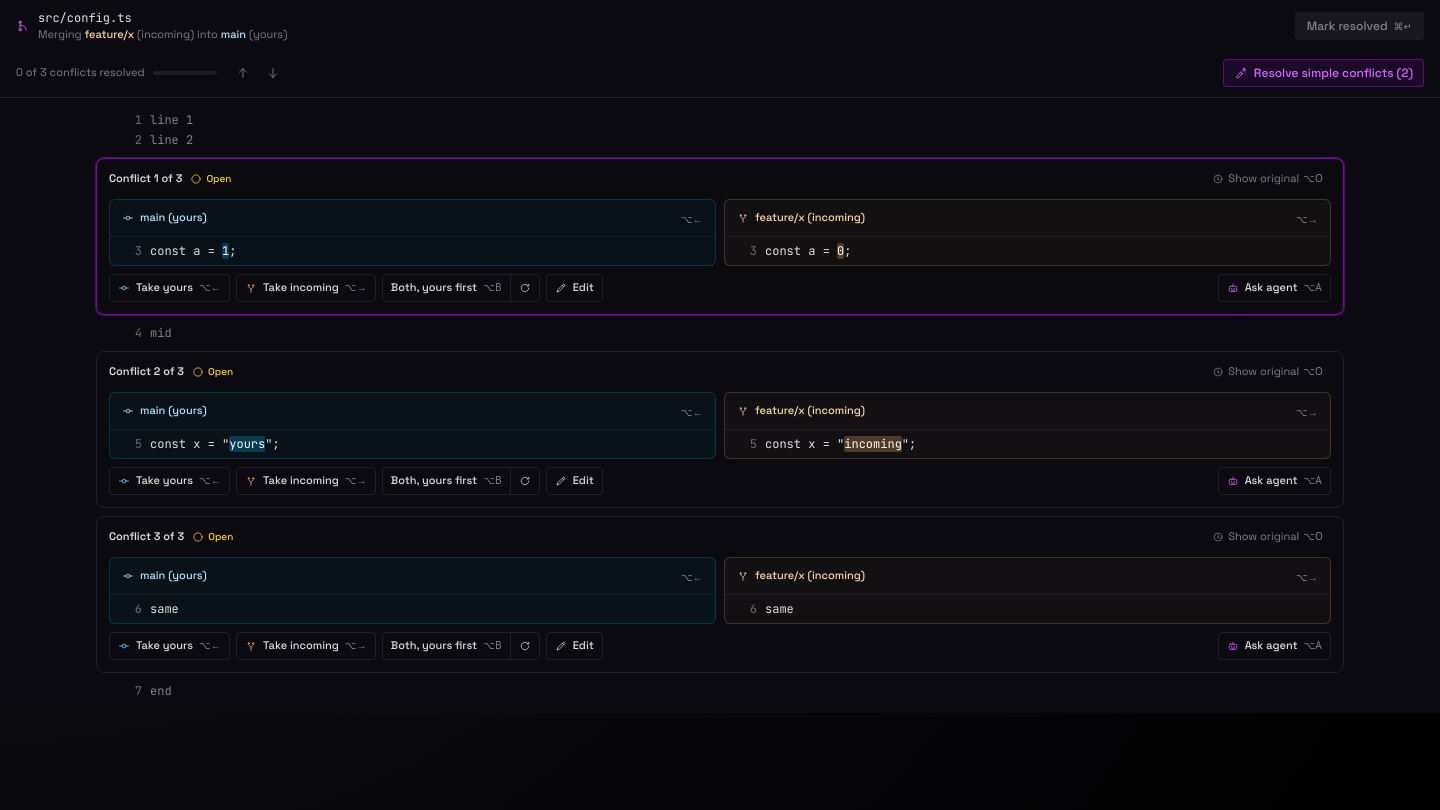
Test: MergeView › refuses an edited resolution that still has a marker line
Click the 2nd button "Edit".
click(574, 480)  # box [546,466,603,494]
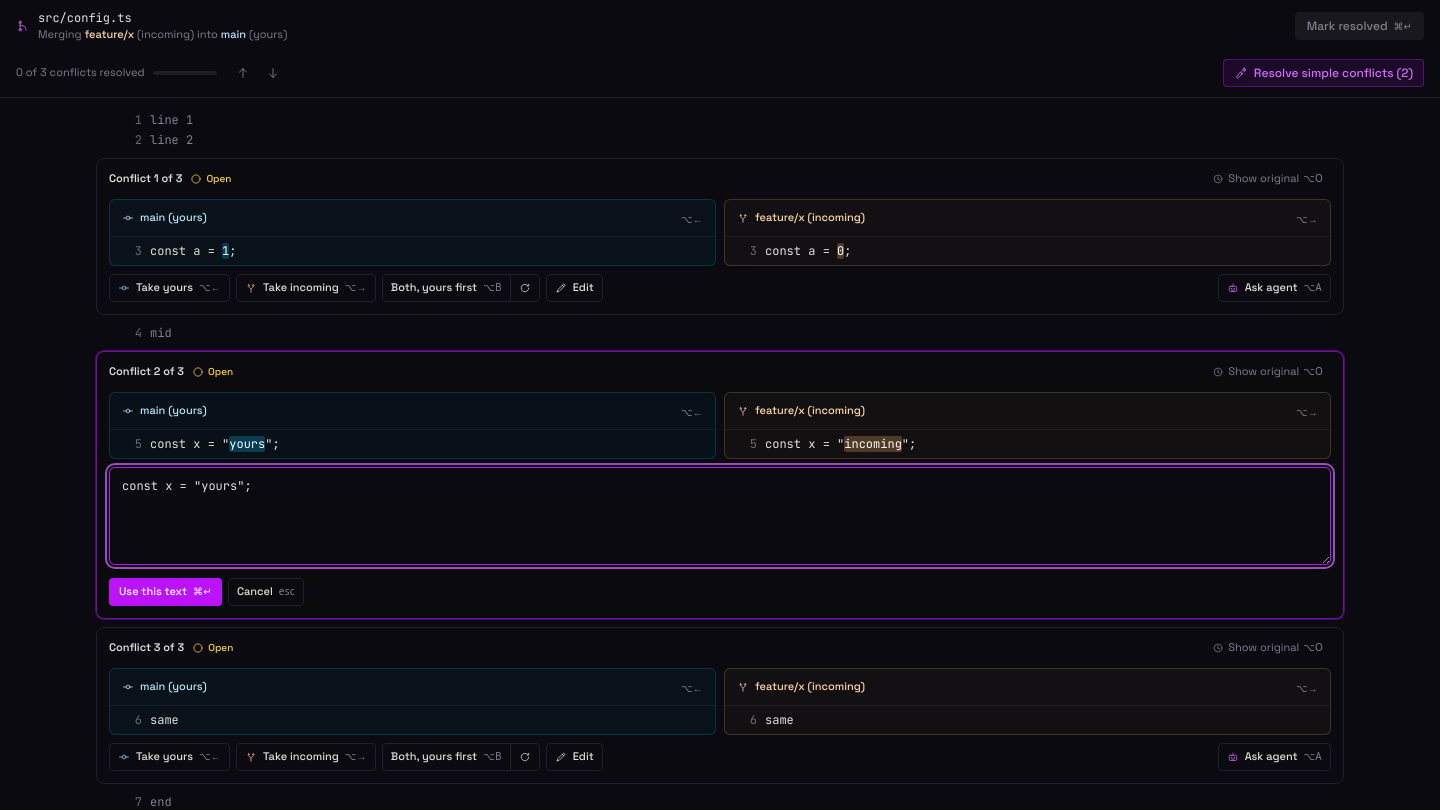
Replace the text in the text box named "Resolution for conflict 2" with "<<<<<<< main" at (720, 516), box [109,466,1331,564]
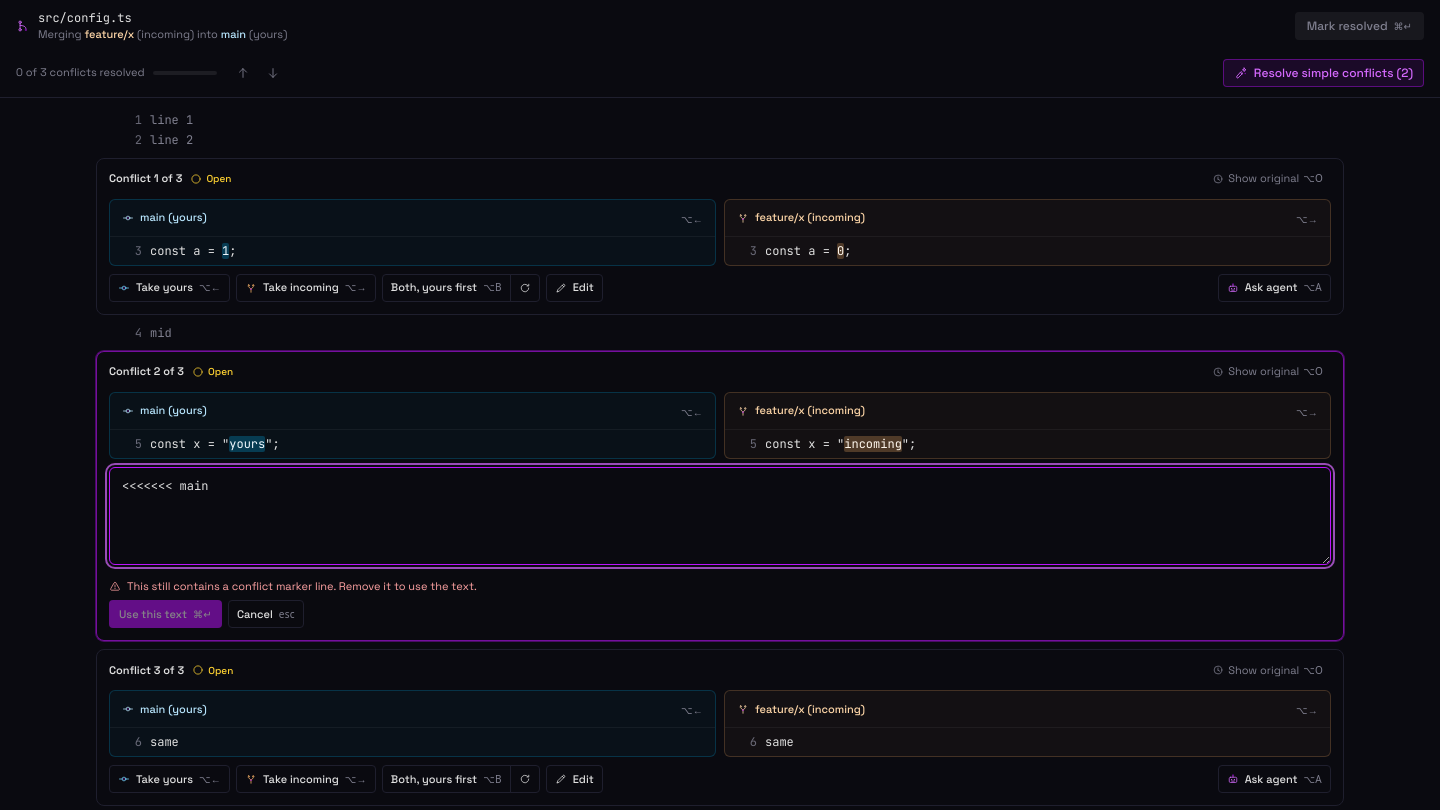
Expected: the message shows "conflict marker", [127,578,477,592]
Expected: the button "Use this text ⌘↵" is disabled, [109,600,222,628]
Replace the text in the text box named "Resolution for conflict 2" with "merged by hand" at (720, 516), box [109,466,1331,564]
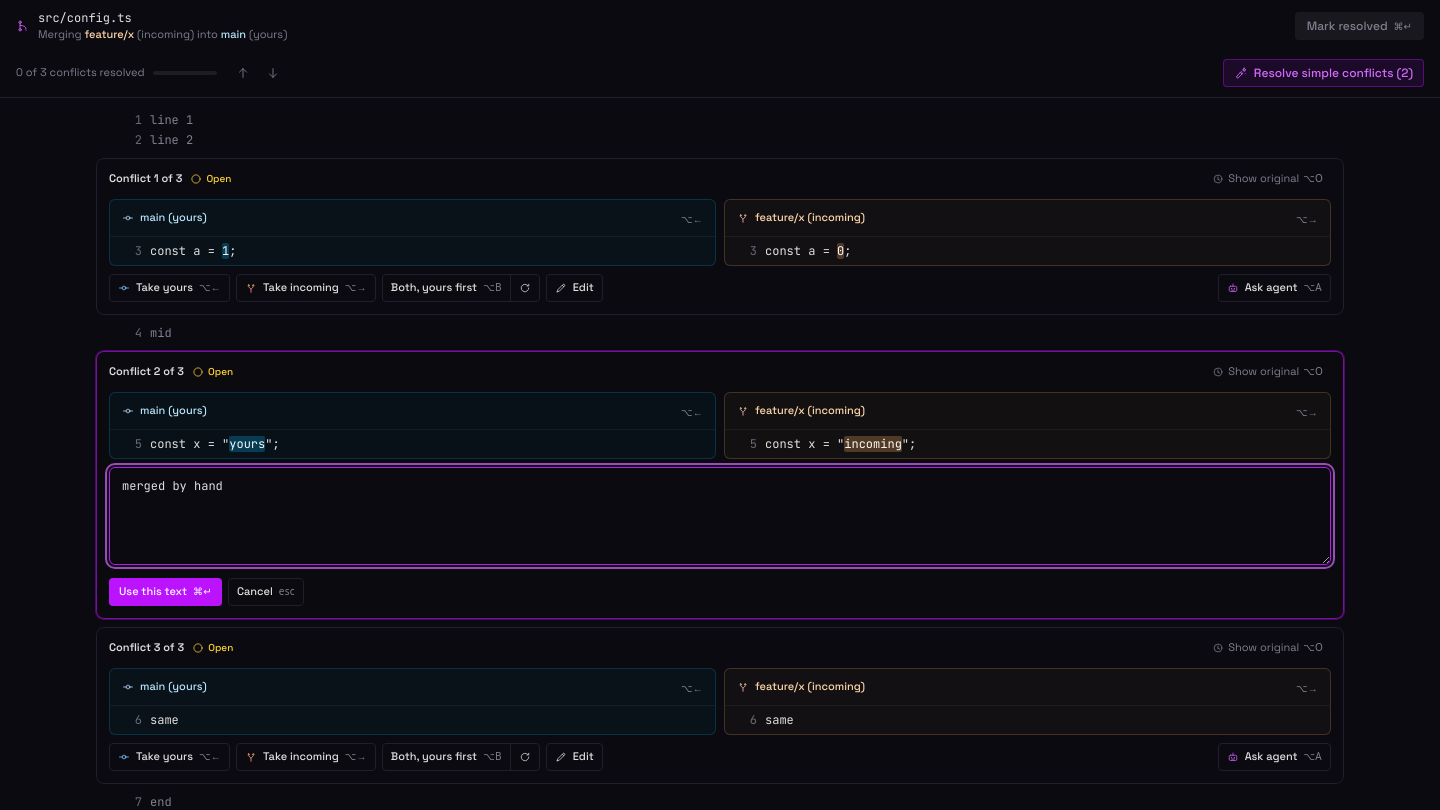
Click the button "Use this text ⌘↵".
click(165, 592)  # box [109,578,222,606]
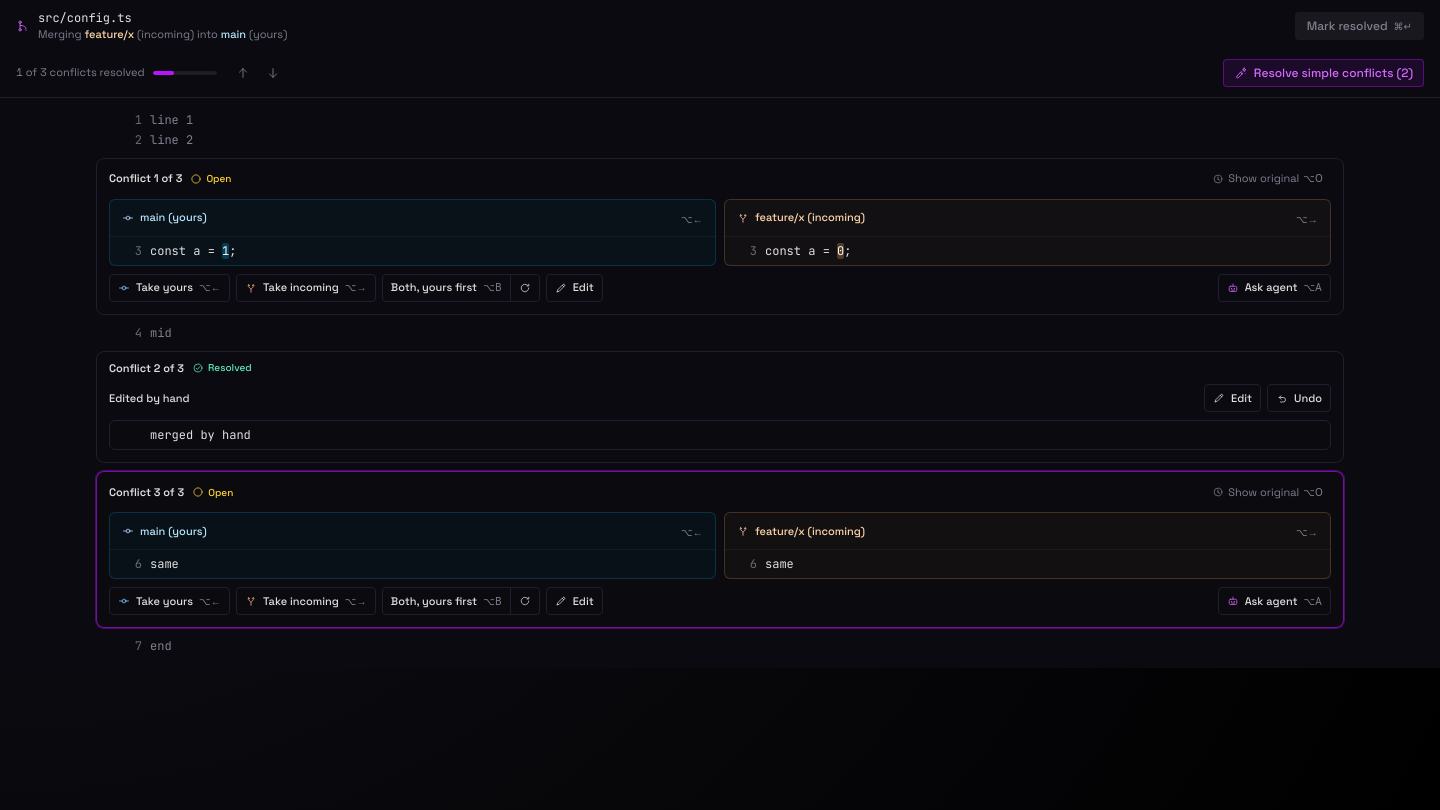
Expected: the text with test id "resolution-summary" reads "Edited by hand", [109,391,190,405]
